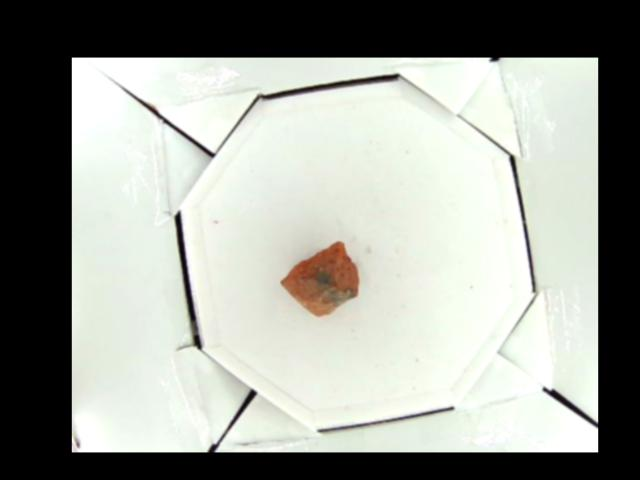Brisk: (282, 241, 357, 316)
